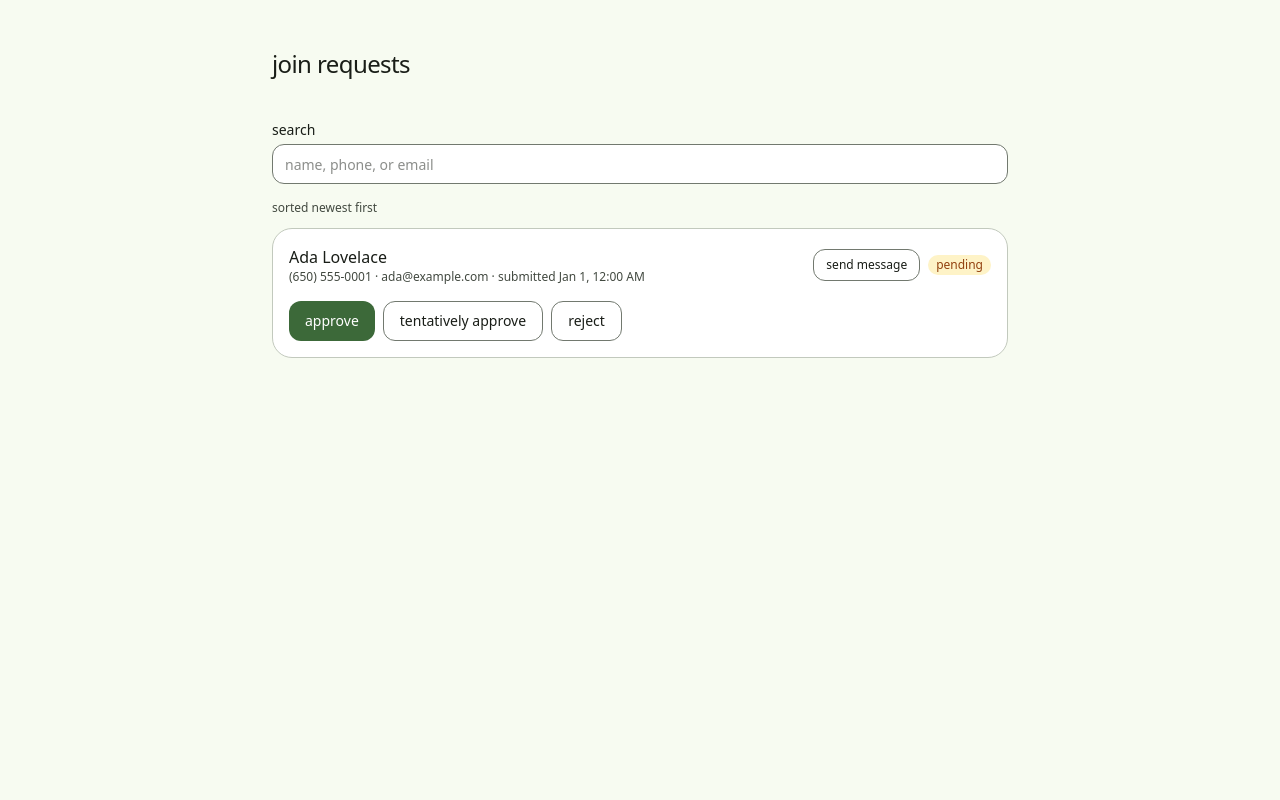
Test: JoinRequestsScreen pending actions › opens the tentative approval message dialog after confirming
Click the button "tentatively approve".
click(463, 321)  # box [383,301,543,341]
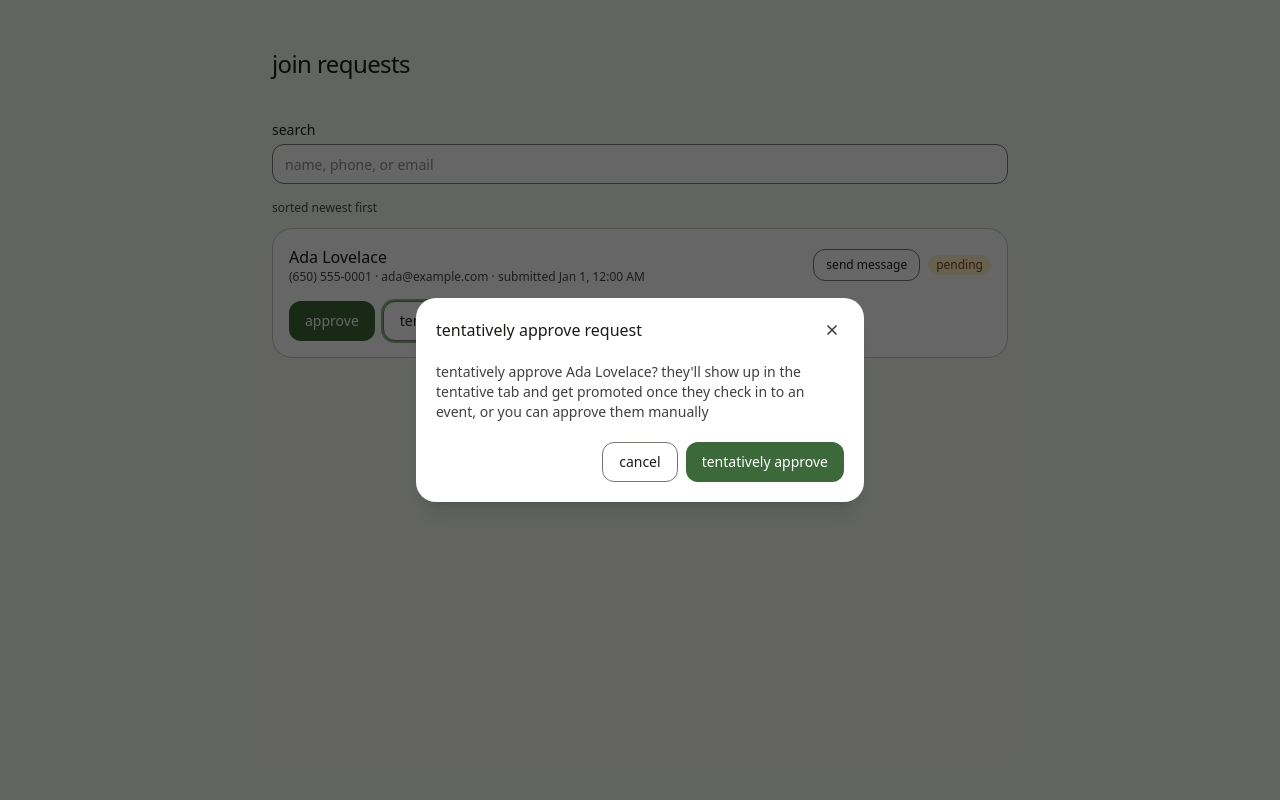
Click the button "tentatively approve".
click(765, 462)  # box [686,442,844,482]
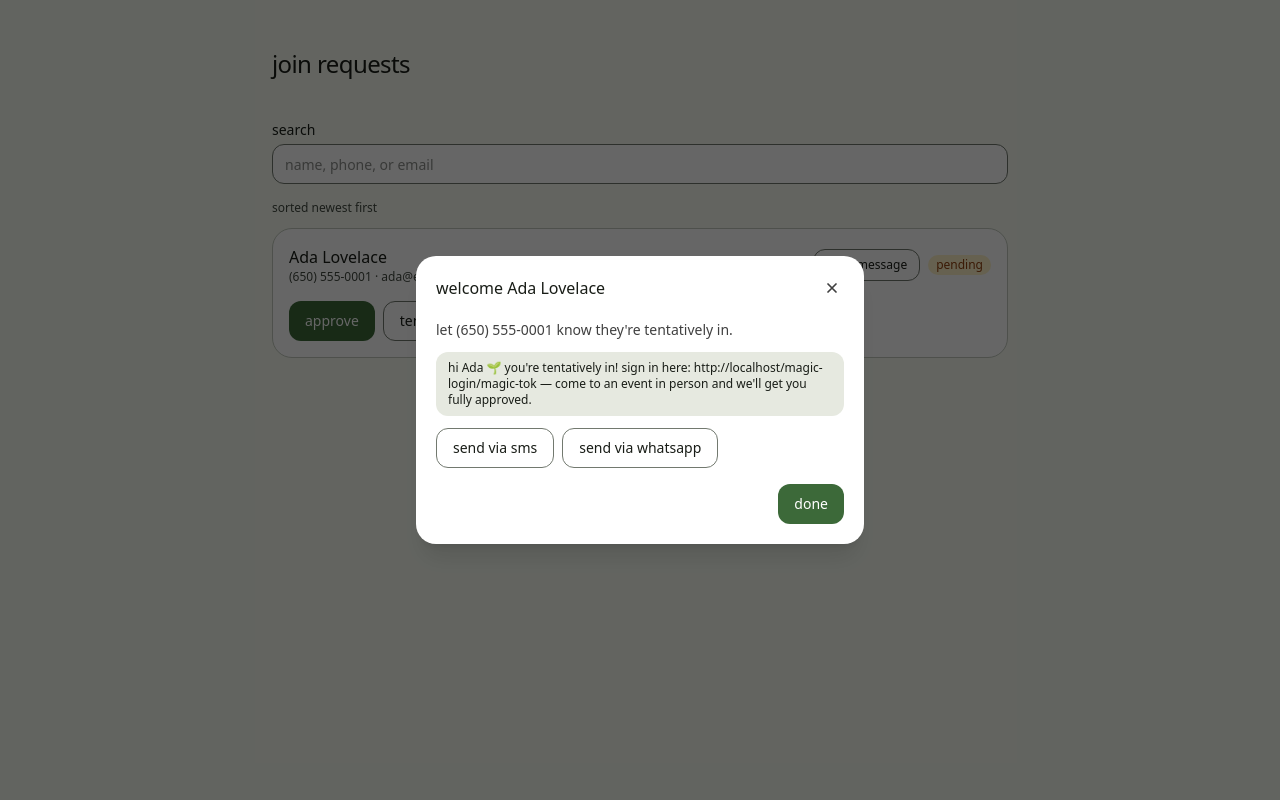
Check: the heading "welcome Ada Lovelace" is shown, box [436,276,605,300]
